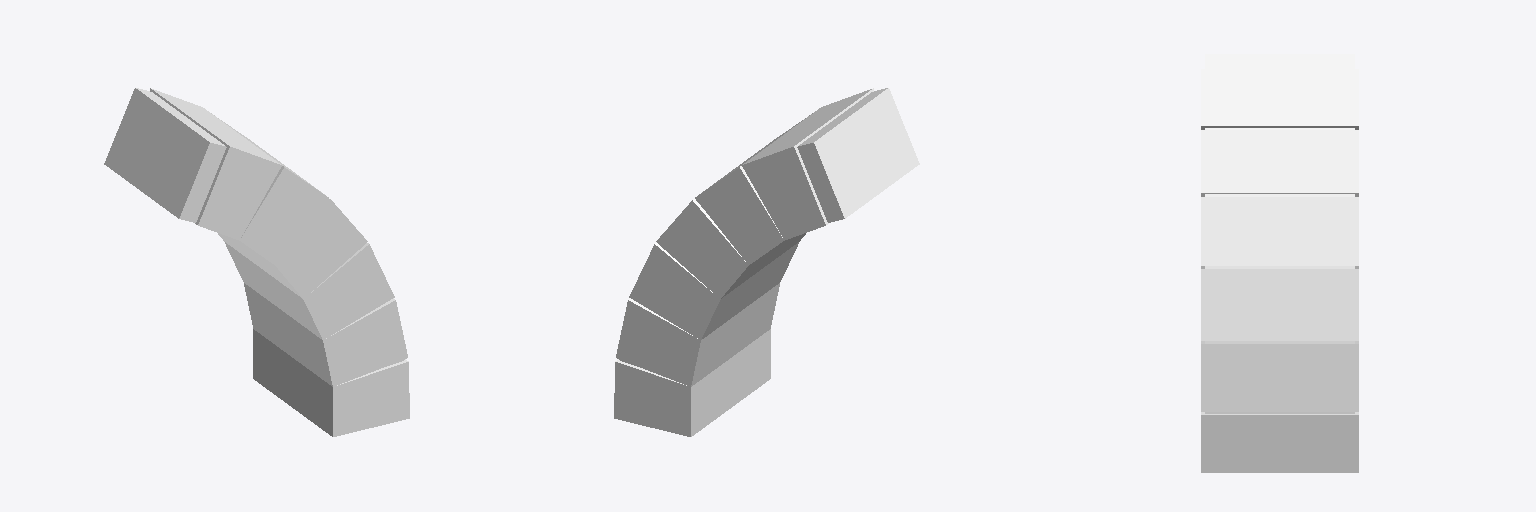
Rendered from generic_gothic_arch_3.obj.
3 views of the same model, side by side, from view 1: azimuth 30°, elevation 25°; view 2: azimuth 150°, elevation 25°; view 3: azimuth 270°, elevation 25° (orthographic).
Visible parts, largest first — view 1: cube.054, cube.048, cube.047, cube.046, cube.043, cube.045, cube.044; view 2: cube.054, cube.048, cube.047, cube.046, cube.043, cube.045, cube.044; view 3: cube.046, cube.045, cube.047, cube.044, cube.043, cube.048, cube.054.
Boxes of the visible parts, x1=… form: cube.054: x1=104, y1=88, x2=226, y2=222; cube.048: x1=253, y1=329, x2=409, y2=436; cube.047: x1=244, y1=283, x2=407, y2=386; cube.046: x1=225, y1=242, x2=394, y2=339; cube.043: x1=150, y1=88, x2=281, y2=240; cube.045: x1=218, y1=199, x2=367, y2=298; cube.044: x1=211, y1=113, x2=328, y2=264; cube.054: x1=797, y1=88, x2=919, y2=222; cube.048: x1=614, y1=329, x2=770, y2=436; cube.047: x1=616, y1=283, x2=779, y2=386; cube.046: x1=629, y1=242, x2=798, y2=339; cube.043: x1=742, y1=88, x2=873, y2=240; cube.045: x1=656, y1=199, x2=805, y2=298; cube.044: x1=695, y1=113, x2=812, y2=264; cube.046: x1=1201, y1=269, x2=1358, y2=340; cube.045: x1=1201, y1=197, x2=1358, y2=268; cube.047: x1=1201, y1=341, x2=1358, y2=411; cube.044: x1=1201, y1=130, x2=1358, y2=196; cube.043: x1=1201, y1=69, x2=1358, y2=129; cube.048: x1=1201, y1=412, x2=1358, y2=472; cube.054: x1=1205, y1=54, x2=1354, y2=68.
Size of the model in its own units: 1.87 by 2.52 by 1.13.